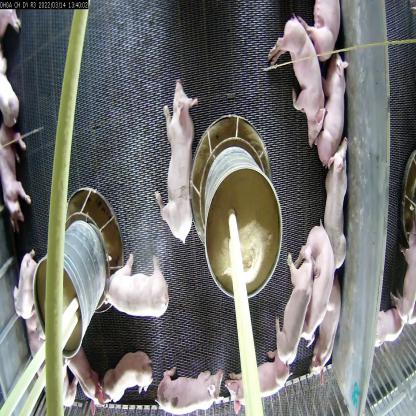Pig: (264, 6, 322, 134), (160, 75, 199, 251), (315, 123, 356, 273), (225, 339, 303, 415), (271, 246, 314, 366), (312, 43, 350, 173), (106, 257, 168, 329), (161, 360, 230, 415), (90, 348, 156, 405), (304, 218, 331, 355), (0, 115, 32, 230), (301, 0, 347, 67), (312, 270, 339, 379), (10, 244, 43, 327)
